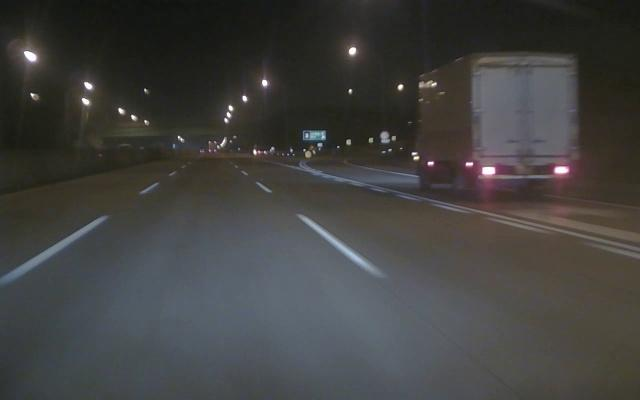lane: (304, 170, 637, 259), (3, 183, 156, 286), (256, 182, 392, 279)
